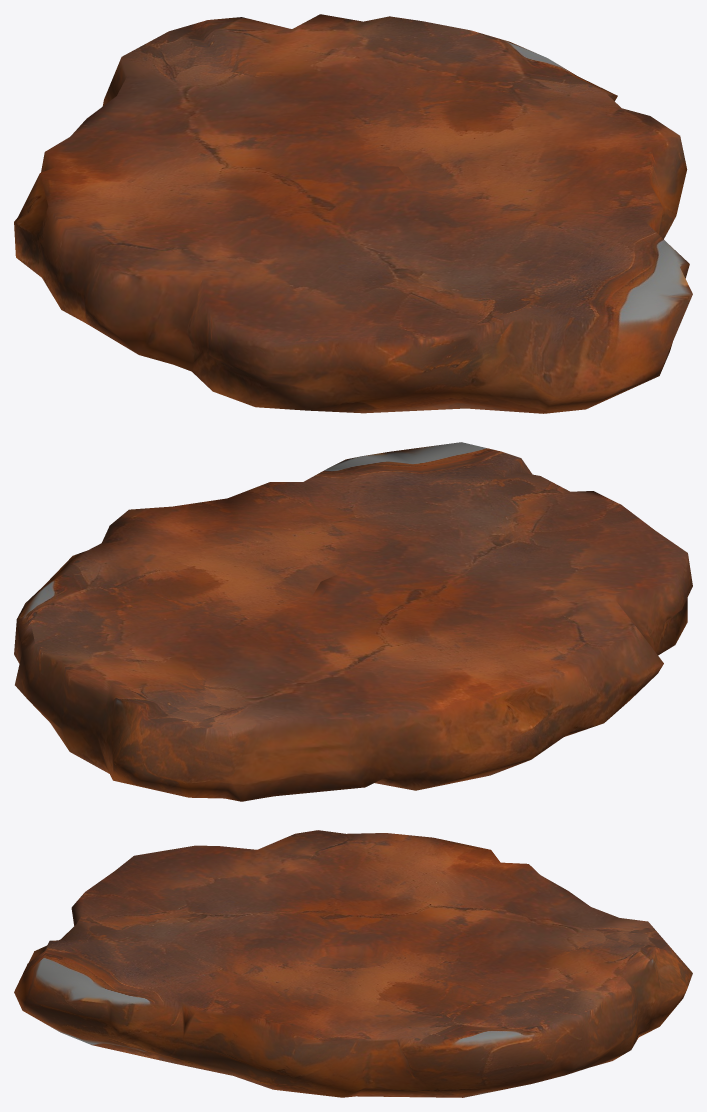
File: rock_5.glb
The picture shows the model from 3 angles, top to bottom: view 1: azimuth 30°, elevation 25°; view 2: azimuth 150°, elevation 25°; view 3: azimuth 270°, elevation 25°; orthographic projection. The views are drawn at different scales.
Parts seen in each view (by area): view 1: tripo_node_d45c3d2d-8c34-4edf-9276-1b0f17071de8; view 2: tripo_node_d45c3d2d-8c34-4edf-9276-1b0f17071de8; view 3: tripo_node_d45c3d2d-8c34-4edf-9276-1b0f17071de8.
Part boxes in pixels (bbox=[...]): tripo_node_d45c3d2d-8c34-4edf-9276-1b0f17071de8: bbox=[14, 14, 692, 413]; tripo_node_d45c3d2d-8c34-4edf-9276-1b0f17071de8: bbox=[14, 442, 692, 801]; tripo_node_d45c3d2d-8c34-4edf-9276-1b0f17071de8: bbox=[14, 830, 692, 1097].
Bounding box in the file's own units: 0.7614 × 0.1226 × 0.997.
Materials: 1 (1 with a texture image).
